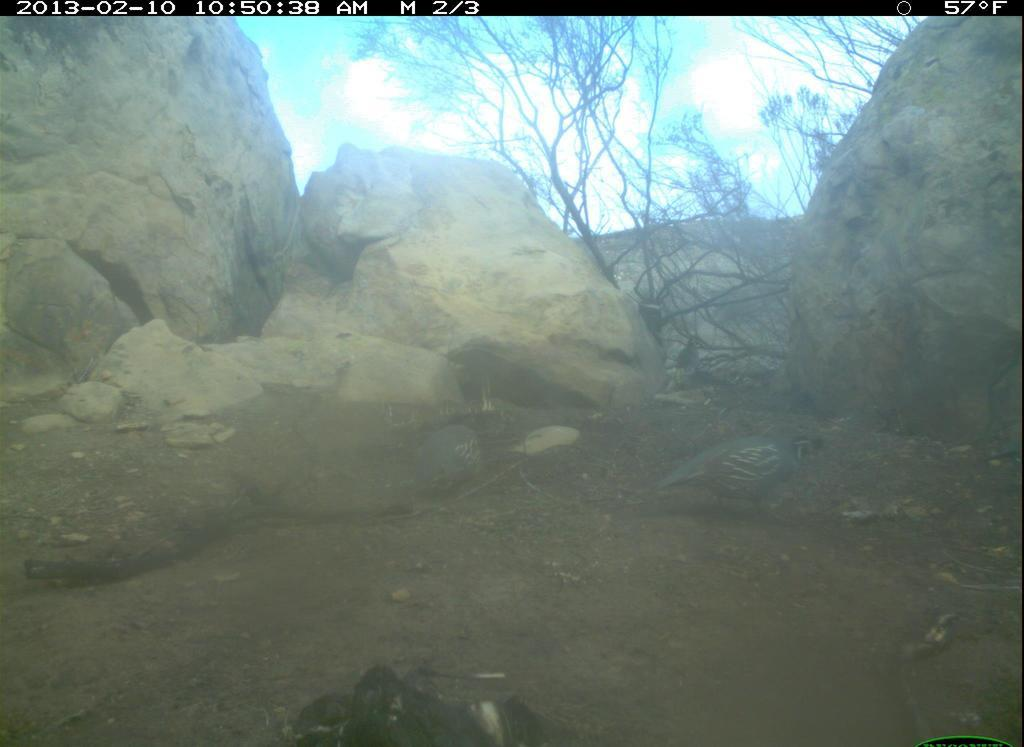bird: (643, 419, 821, 537), (388, 417, 510, 519)
